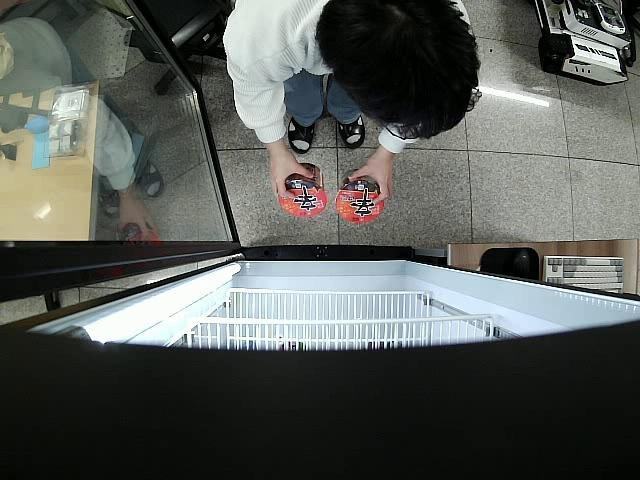01_ShinRamen_L: (278, 162, 328, 218), (336, 170, 383, 223)
